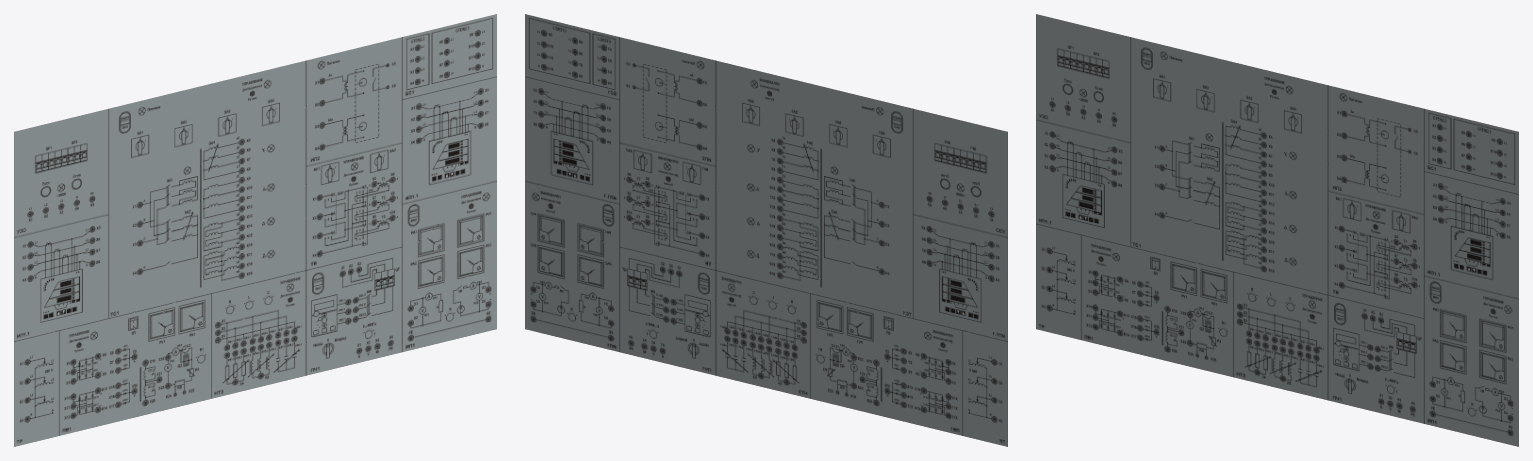
File: panel1.FBX
3 views of the same model, side by side, from view 1: azimuth 30°, elevation 25°; view 2: azimuth 150°, elevation 25°; view 3: azimuth 330°, elevation 25° (orthographic).
Visible parts, largest first — view 1: Plane001; view 2: Plane001; view 3: Plane001.
Boxes of the visible parts, x1,y1,x2,y2 form: Plane001: (14, 14, 496, 446); Plane001: (525, 14, 1007, 446); Plane001: (1036, 14, 1518, 446).
Size of the model in its own units: 1.33 by 0.828 by 3.62e-08.
Materials: 1 (1 with a texture image).
